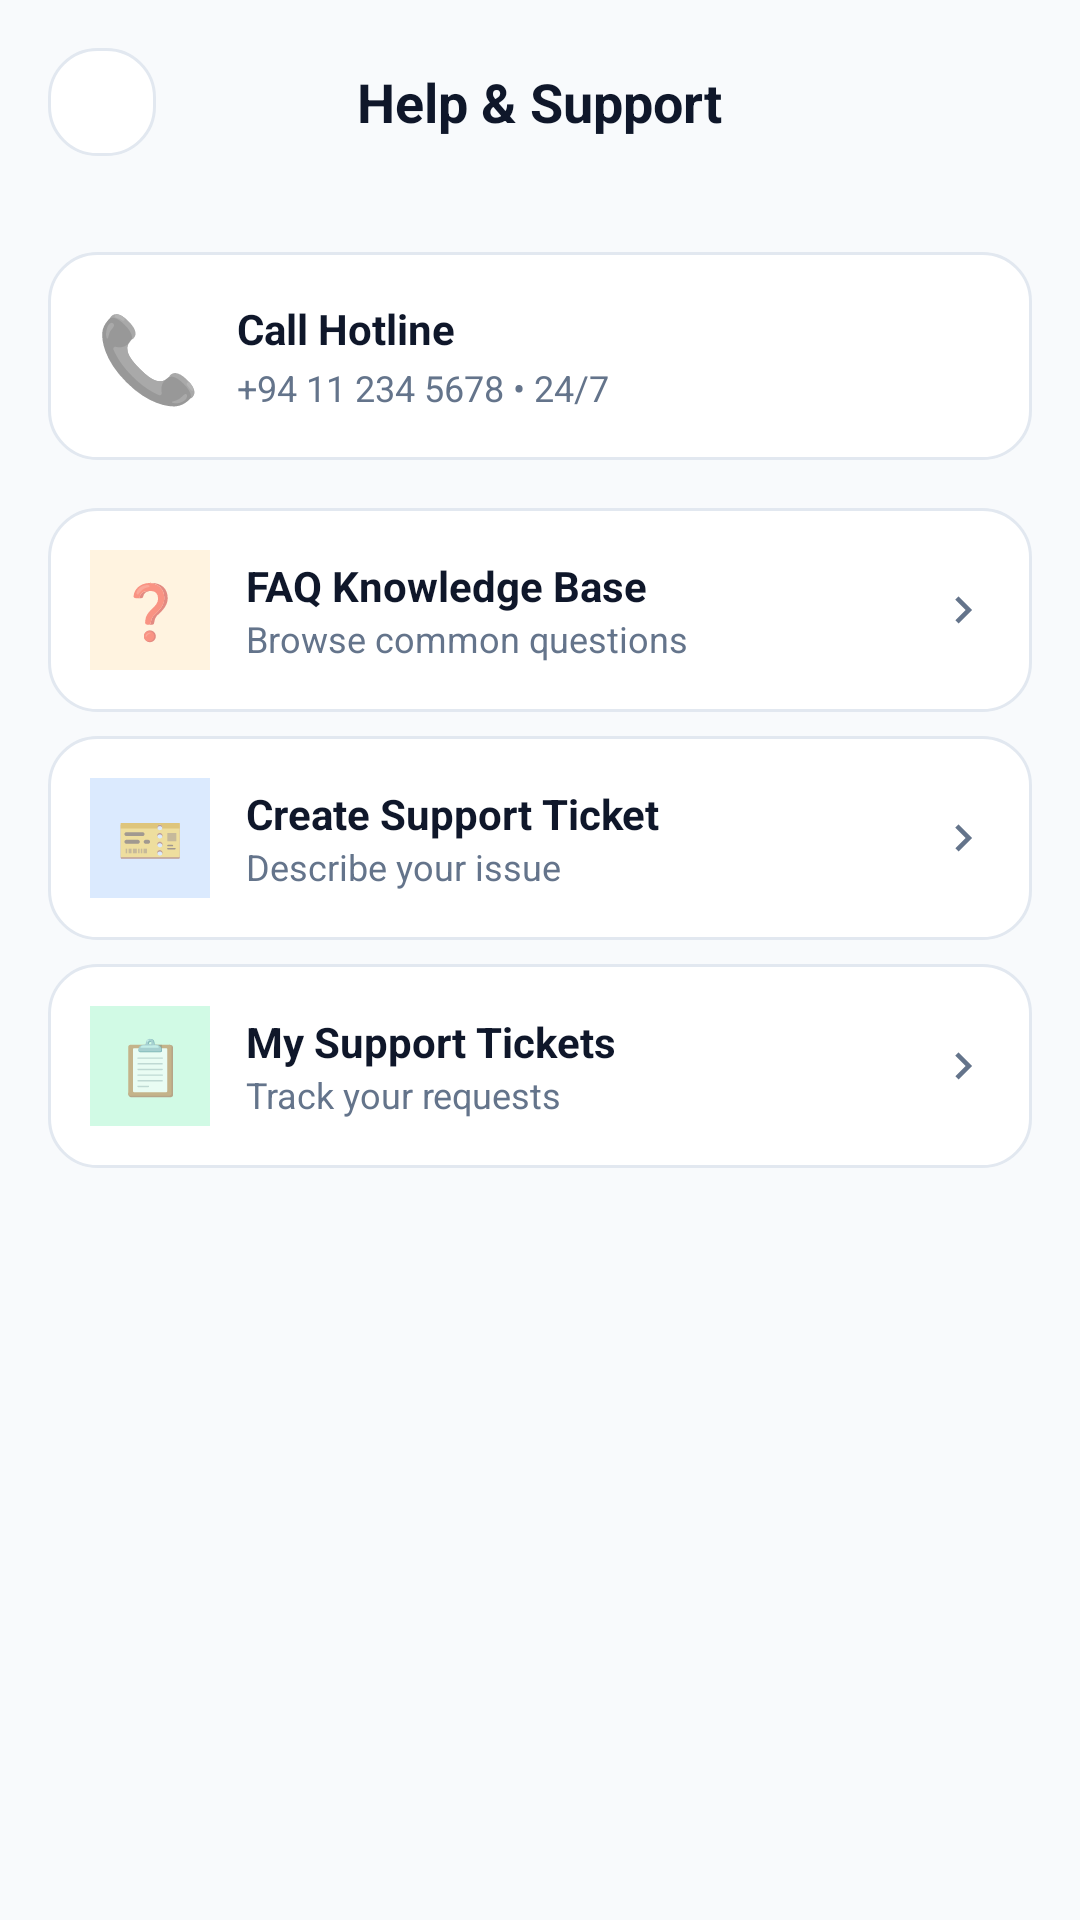

Icon click points for this 1080x1920 phone screenshot, format [x,y]:
Next: [963,610], [963,838], [963,1066]
